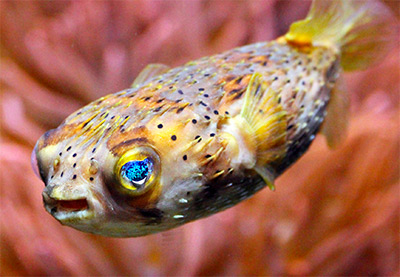Diodon_holocanthus: (22, 37, 366, 245)
